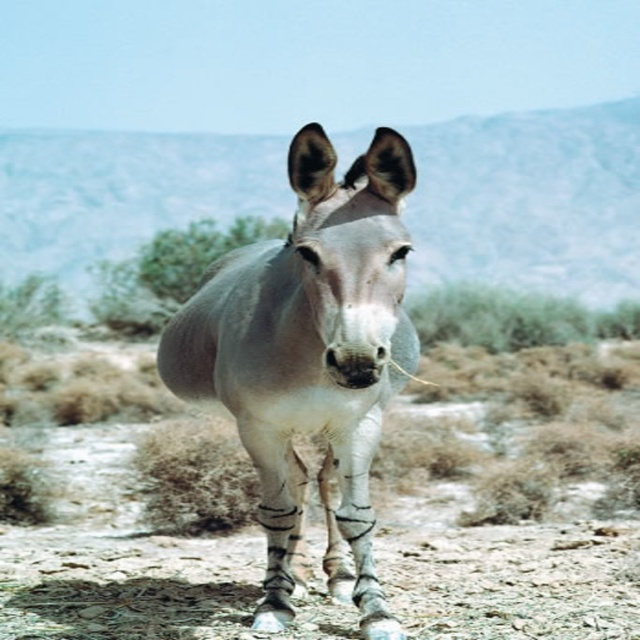Mule: (150, 121, 413, 598)
